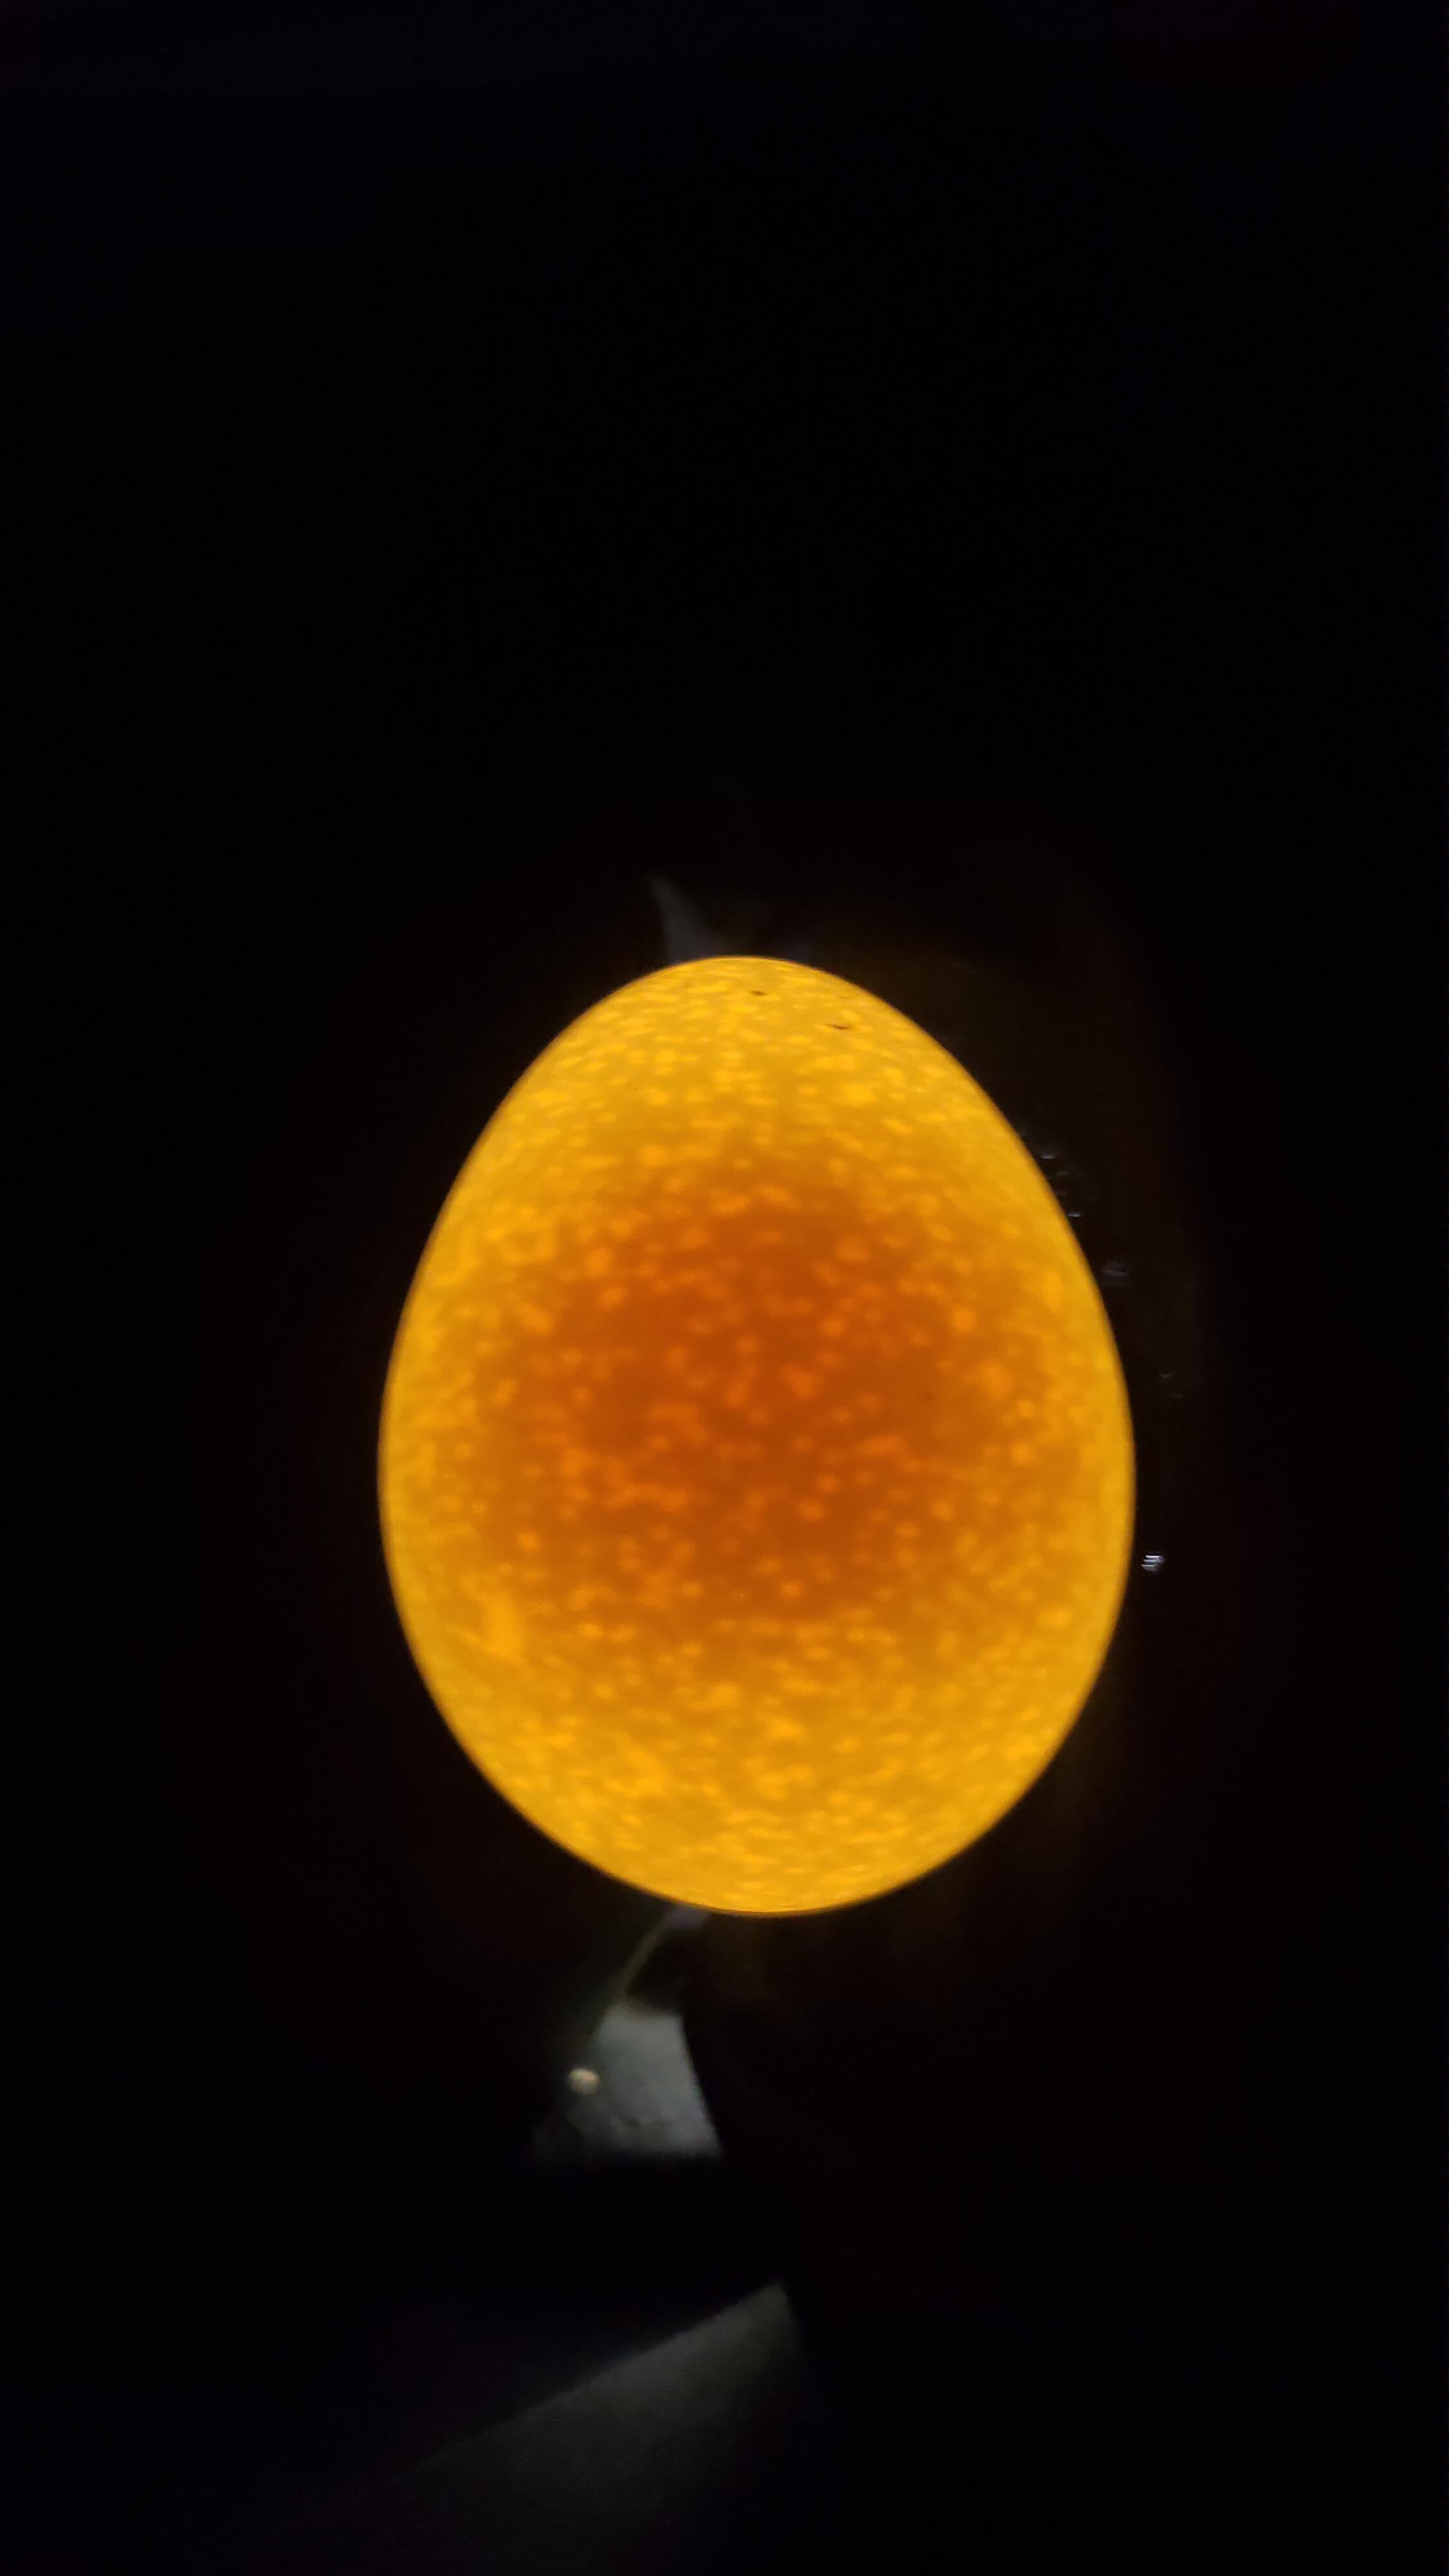A - Good: (295, 895, 1166, 1971)
